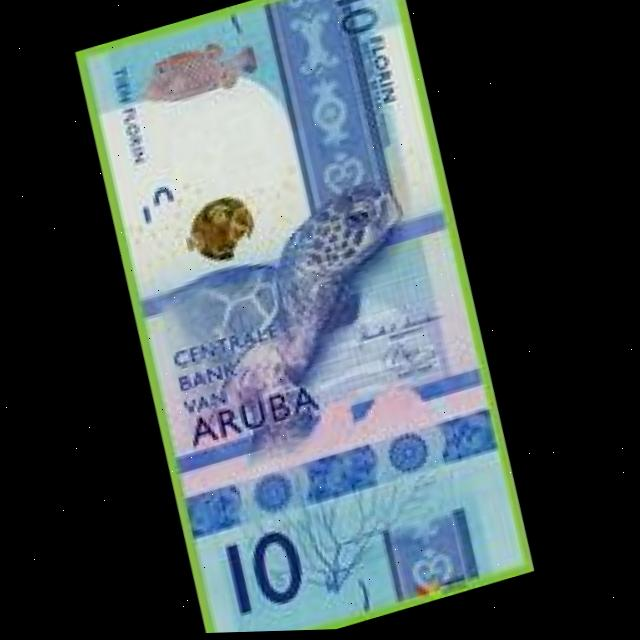banknote: (52, 0, 561, 638)
